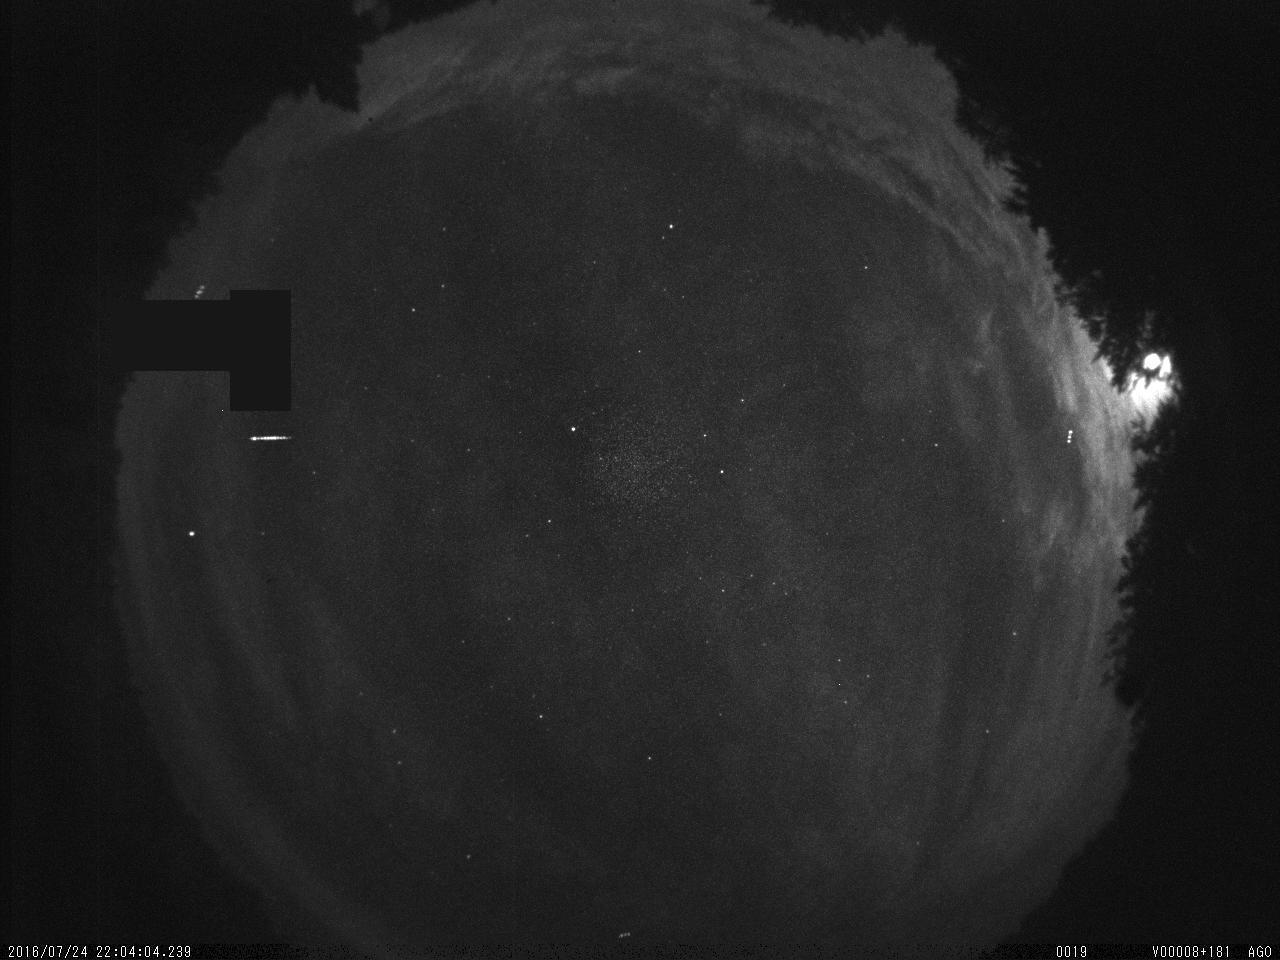Meteor: (245, 430, 295, 445)
